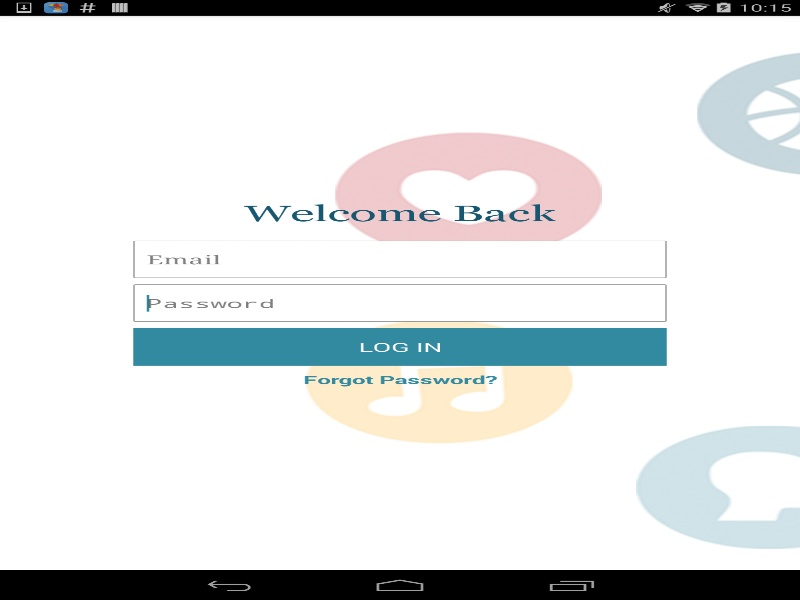Button: (133, 328, 666, 365)
Input: (133, 240, 666, 278), (133, 284, 666, 321)
